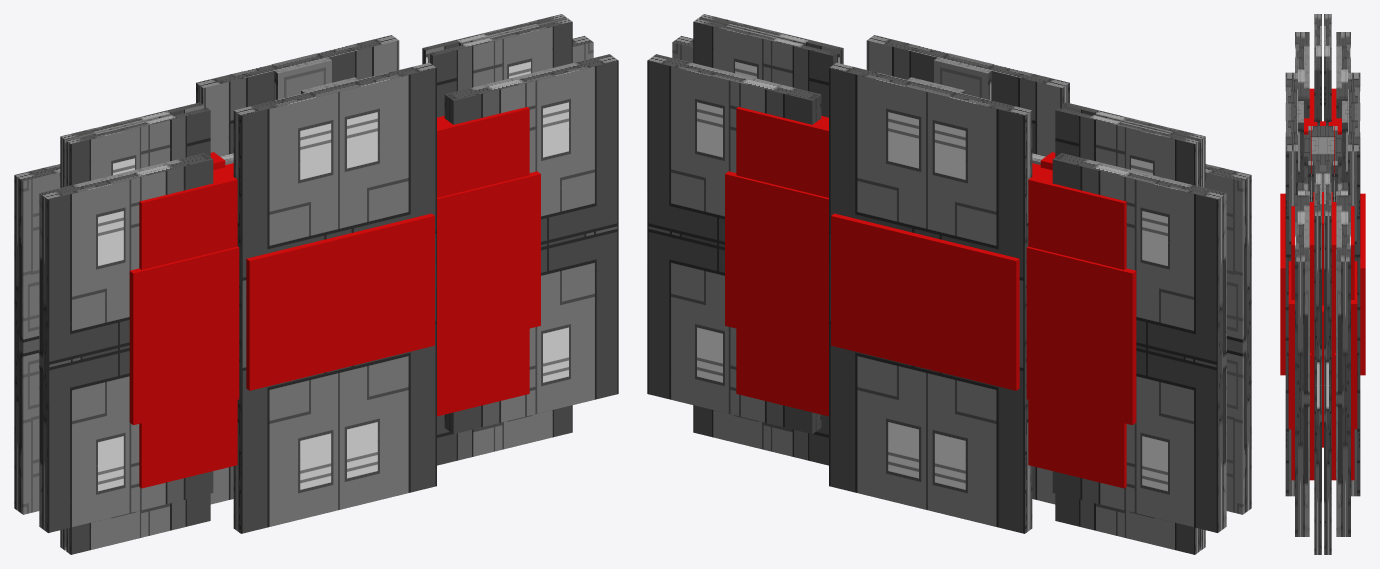
Rendered from wall_1.fbx.
3 renders of one model, left to right at view 1: azimuth 30°, elevation 25°; view 2: azimuth 150°, elevation 25°; view 3: azimuth 270°, elevation 25°, orthographic. The views are drawn at different scales.
Visible parts, largest first — view 1: wall_1; view 2: wall_1; view 3: wall_1.
Boxes of the visible parts, x1,y1,x2,y2 form: wall_1: [14, 14, 618, 554]; wall_1: [647, 14, 1251, 554]; wall_1: [1280, 14, 1365, 554].
Bounding box in the file's own units: 220 × 154 × 34.47.
